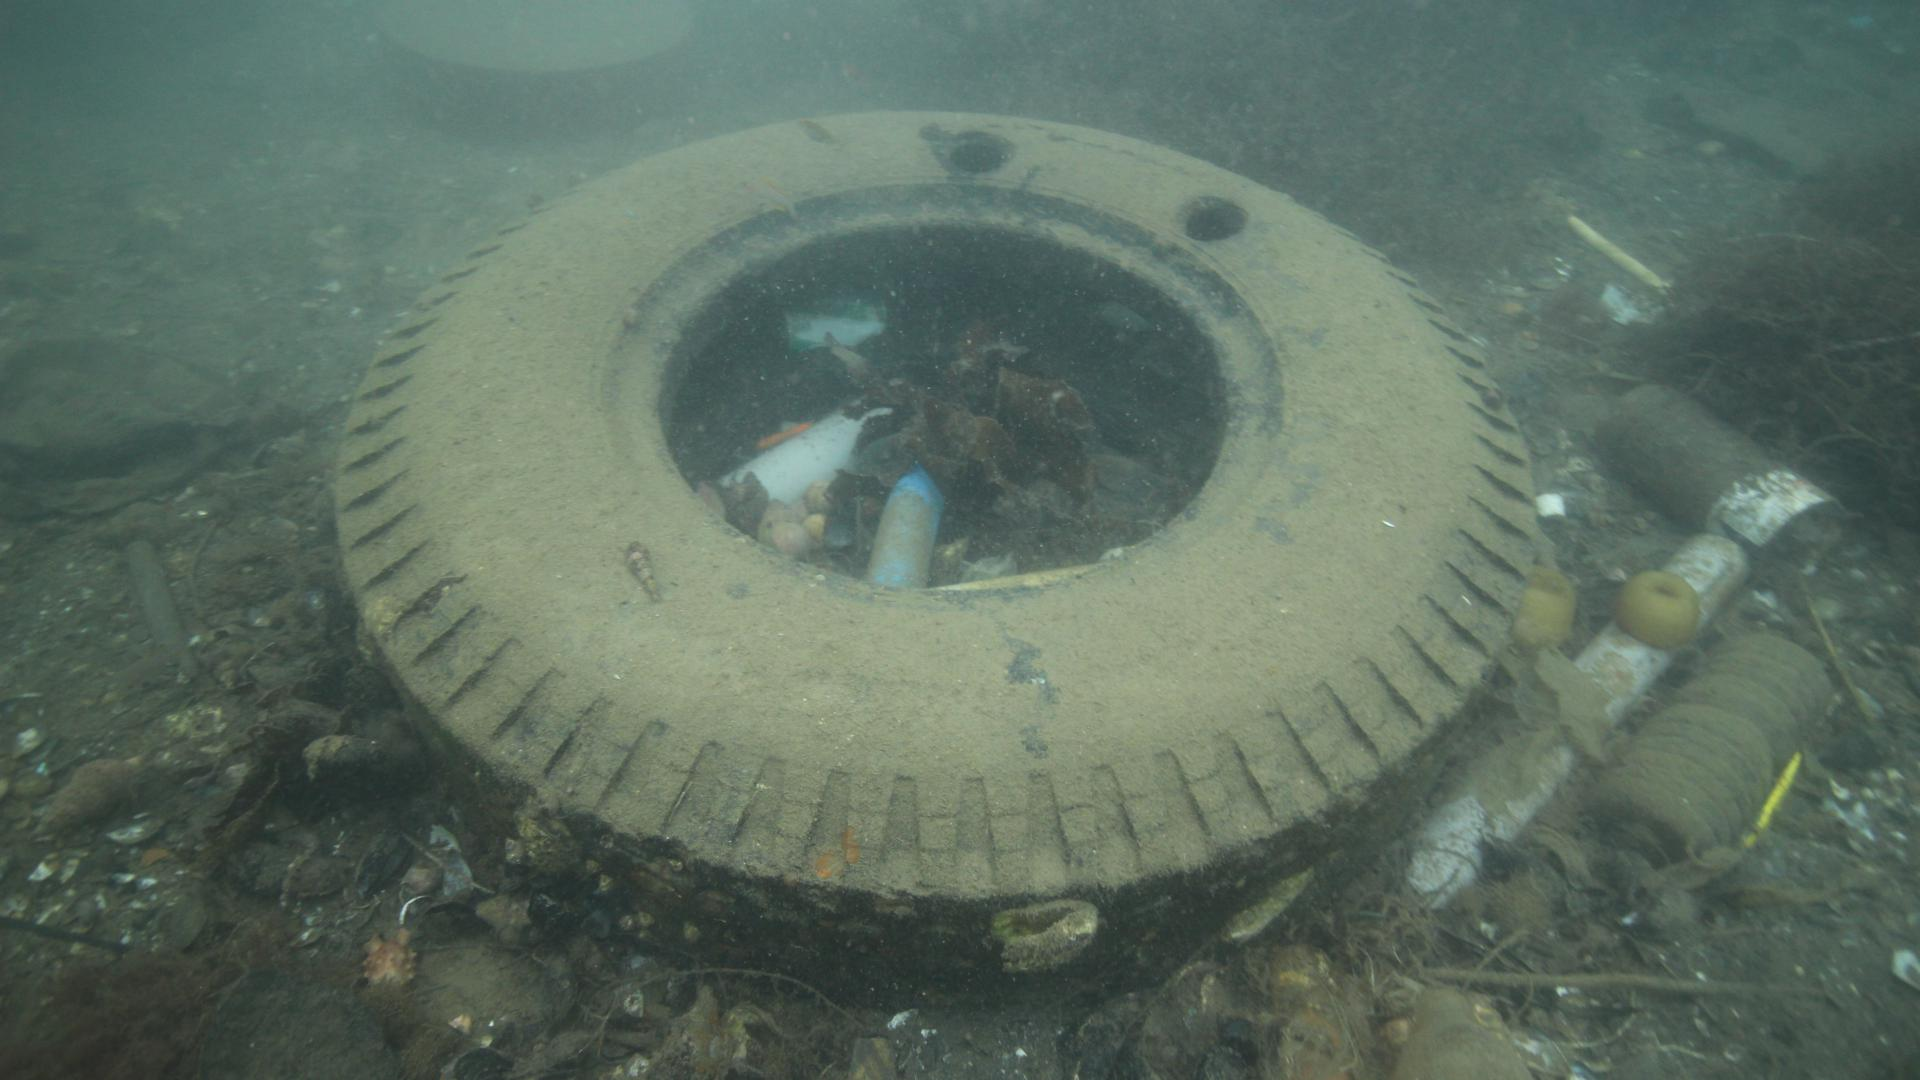tire: (330, 107, 1538, 1015)
